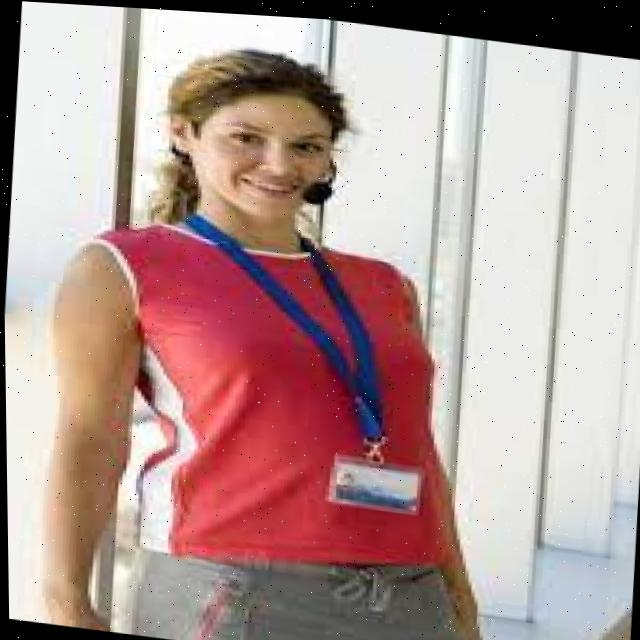id_card: (197, 198, 450, 539)
